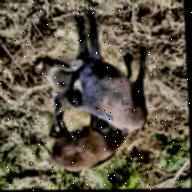boar: (37, 28, 179, 134), (33, 112, 123, 181)
